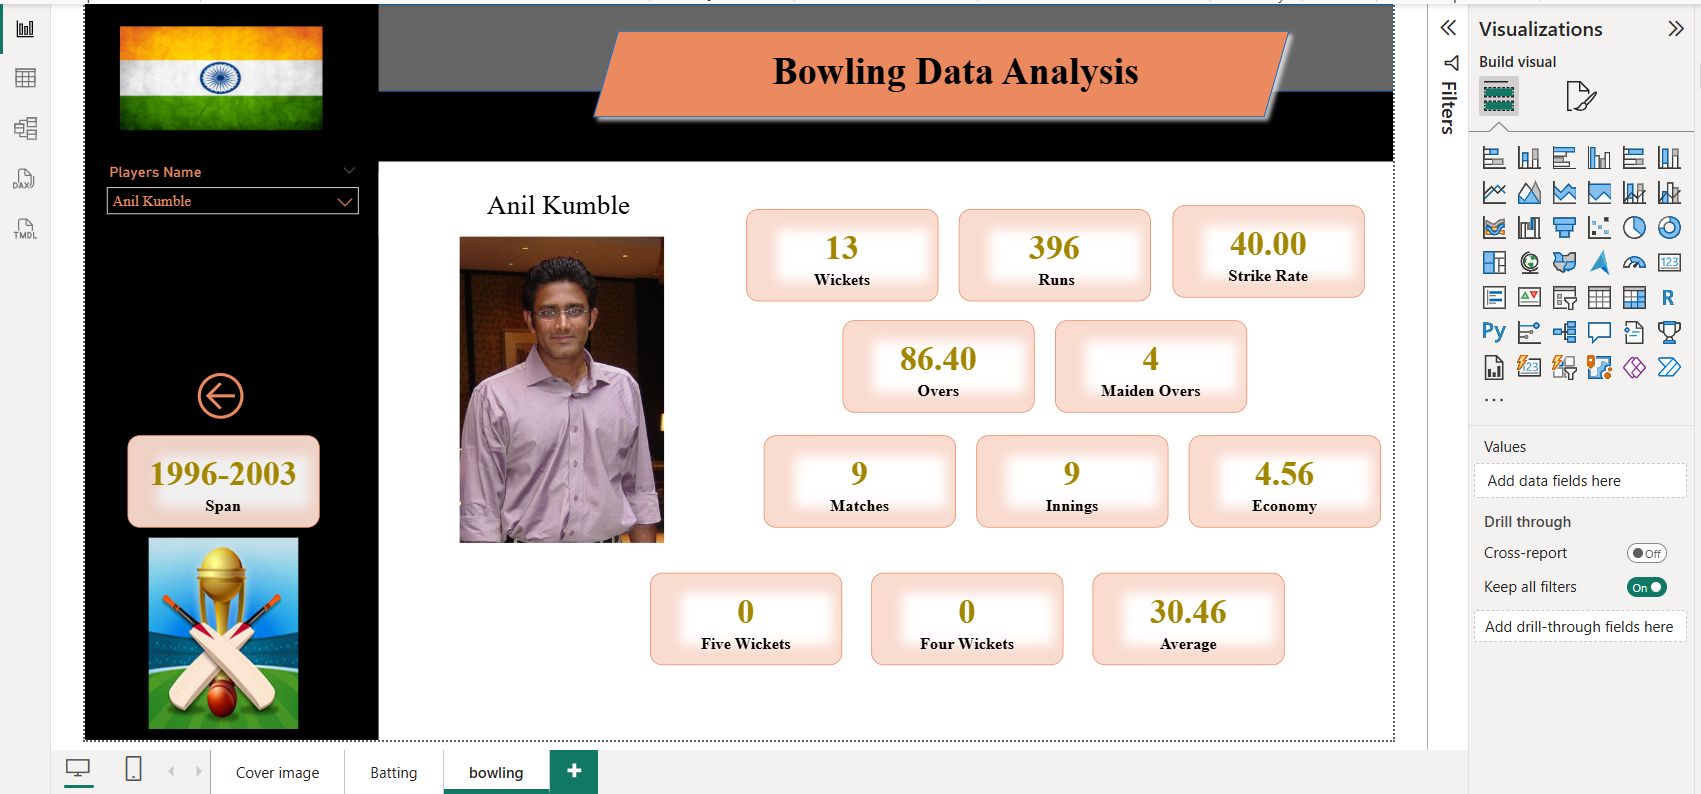

The page's visual inventory and layout, read from the dashboard file:
{"tool":"powerbi","page":{"name":"bowling","canvas":[1280,720],"ordinal":2},"visuals":[{"type":"shape","box":[0,0,1280.3,85.6],"z":0},{"type":"shape","box":[0,85.6,1280.3,68.5],"z":1000},{"type":"shape","box":[0,0,287.4,94.2],"z":2000},{"type":"shape","box":[487.9,17.1,699.5,102.7],"z":3000},{"type":"image","box":[29.3,17.1,207.9,111.3],"z":4000},{"type":"textbox","box":[0,145.3,287.4,574.7],"z":5000},{"type":"card","fields":{"Values":["Min(Sheet2.Merged_span)"]},"box":[41.6,421.9,188.3,90.5],"z":6000},{"type":"card","fields":{"Values":["Sum(Sheet2.Ave)"]},"box":[985.6,556.4,188.3,90.5],"z":7000},{"type":"card","fields":{"Values":["Sum(Sheet2.4)"]},"box":[769.2,556.4,188.3,90.5],"z":8000},{"type":"card","fields":{"Values":["Sum(Sheet2.5)"]},"box":[552.7,556.4,188.3,90.5],"z":9000},{"type":"card","fields":{"Values":["Sum(Sheet2.Econ)"]},"box":[1079.8,421.9,188.3,90.5],"z":10000},{"type":"card","fields":{"Values":["Sum(Sheet2.Inns)"]},"box":[871.9,421.9,188.3,90.5],"z":11000},{"type":"card","fields":{"Values":["Sum(Sheet2.Mat)"]},"box":[664,421.9,188.3,90.5],"z":12000},{"type":"card","fields":{"Values":["Sum(Sheet2.Overs)"]},"box":[741,309.4,188.3,90.5],"z":13000},{"type":"card","fields":{"Values":["Sum(Sheet2.Runs)"]},"box":[854.9,200.5,188.3,90.5],"z":14000},{"type":"card","fields":{"Values":["Sum(Sheet2.Mdns)"]},"box":[948.9,309.4,188.3,90.5],"z":15000},{"type":"card","fields":{"Values":["Sum(Sheet2.SR)"]},"box":[1063.4,196.9,188.3,90.5],"z":16000},{"type":"card","fields":{"Values":["Sum(Sheet2.Wkts)"]},"box":[646.4,200.5,188.3,90.5],"z":17000},{"type":"actionButton","box":[103.9,354.6,81.9,57.5],"z":18000},{"type":"image","box":[57.5,517.3,156.5,196.9],"z":19000},{"type":"slicer","fields":{"Values":["Nametable_batting.Players Name"]},"box":[11,150.4,266.6,77],"z":20000},{"type":"textbox","box":[576,39.1,551.5,57.5],"z":21000},{"type":"tableEx","fields":{"Values":["battingimageurl.imageurlbatting"]},"box":[305.7,192,325.3,344.8],"z":22000},{"type":"card","fields":{"Values":["Min(Nametable_batting.Players Name)"]},"box":[287.4,165.1,352.2,62.4],"z":23000}]}

Visuals, with their boxes on the page's 1280x720 design canvas (x1, y1, x2, y2). These are canvas units, not pixel positions in the 1701x794 screenshot, which may show the page scaled, cropped or inside an application window:
shape: x1=0, y1=0, x2=1280, y2=86
shape: x1=0, y1=86, x2=1280, y2=154
shape: x1=0, y1=0, x2=287, y2=94
shape: x1=488, y1=17, x2=1187, y2=120
image: x1=29, y1=17, x2=237, y2=128
textbox: x1=0, y1=145, x2=287, y2=720
card - Min(Sheet2.Merged_span): x1=42, y1=422, x2=230, y2=512
card - Sum(Sheet2.Ave): x1=986, y1=556, x2=1174, y2=647
card - Sum(Sheet2.4): x1=769, y1=556, x2=958, y2=647
card - Sum(Sheet2.5): x1=553, y1=556, x2=741, y2=647
card - Sum(Sheet2.Econ): x1=1080, y1=422, x2=1268, y2=512
card - Sum(Sheet2.Inns): x1=872, y1=422, x2=1060, y2=512
card - Sum(Sheet2.Mat): x1=664, y1=422, x2=852, y2=512
card - Sum(Sheet2.Overs): x1=741, y1=309, x2=929, y2=400
card - Sum(Sheet2.Runs): x1=855, y1=200, x2=1043, y2=291
card - Sum(Sheet2.Mdns): x1=949, y1=309, x2=1137, y2=400
card - Sum(Sheet2.SR): x1=1063, y1=197, x2=1252, y2=287
card - Sum(Sheet2.Wkts): x1=646, y1=200, x2=835, y2=291
actionButton: x1=104, y1=355, x2=186, y2=412
image: x1=58, y1=517, x2=214, y2=714
slicer - Nametable_batting.Players Name: x1=11, y1=150, x2=278, y2=227
textbox: x1=576, y1=39, x2=1128, y2=97
tableEx - battingimageurl.imageurlbatting: x1=306, y1=192, x2=631, y2=537
card - Min(Nametable_batting.Players Name): x1=287, y1=165, x2=640, y2=228
